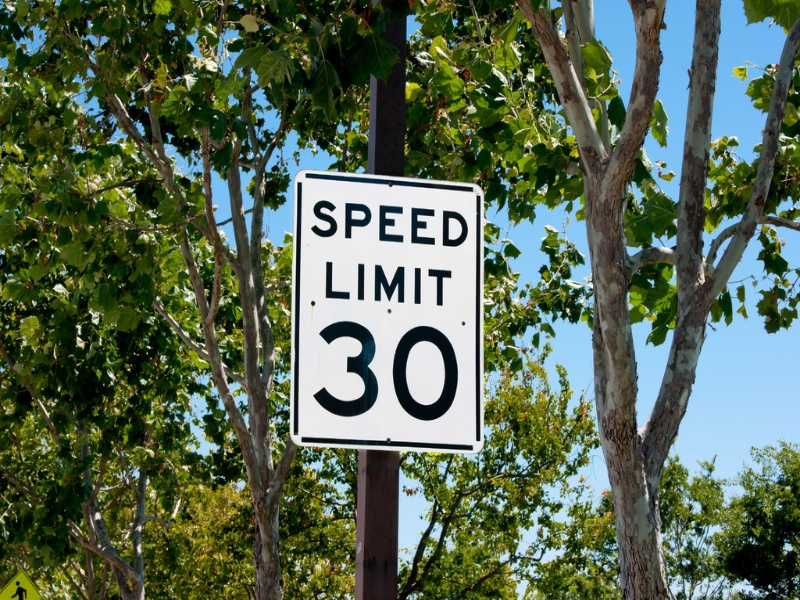speed_limit_30: (294, 164, 474, 454)
